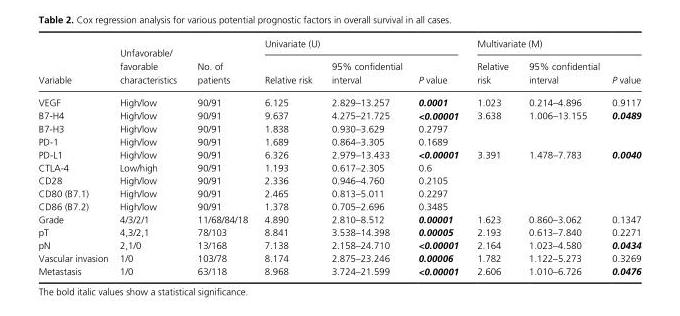table: (37, 37, 640, 276)
table column: (321, 37, 409, 276), (518, 37, 605, 276), (37, 37, 113, 276), (113, 37, 186, 276), (186, 37, 255, 276), (255, 37, 321, 276), (409, 37, 467, 276), (467, 37, 518, 276), (605, 37, 640, 276)
table column header: (37, 37, 640, 90)
table row: (37, 54, 640, 90), (37, 90, 640, 108), (37, 37, 640, 54), (37, 108, 640, 121), (37, 121, 640, 134), (37, 134, 640, 147), (37, 147, 640, 160), (37, 160, 640, 173), (37, 173, 640, 186), (37, 186, 640, 199), (37, 199, 640, 212), (37, 212, 640, 225), (37, 225, 640, 238), (37, 238, 640, 251), (37, 251, 640, 264), (37, 264, 640, 276)
table spanning cell: (37, 37, 113, 90), (113, 37, 186, 90), (186, 37, 255, 90), (255, 37, 467, 54), (467, 37, 640, 54)
